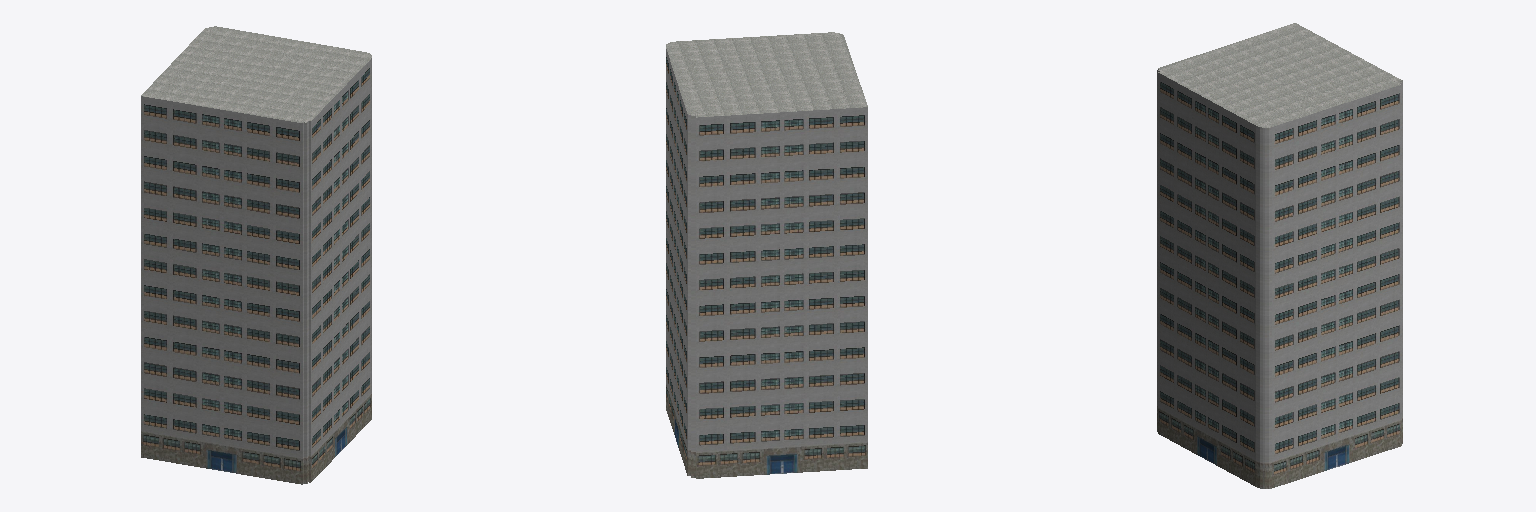
3 renders of one model, left to right at view 1: azimuth 30°, elevation 25°; view 2: azimuth 150°, elevation 25°; view 3: azimuth 270°, elevation 25°, orthographic.
Parts seen in each view (by area): view 1: BuildingMaster_[number redacted]_0, BuildingMaster_[number redacted]_1; view 2: BuildingMaster_[number redacted]_0, BuildingMaster_[number redacted]_1; view 3: BuildingMaster_[number redacted]_0, BuildingMaster_[number redacted]_1.
Boxes of the visible parts, x1,y1,x2,y2 form: BuildingMaster_[number redacted]_0: [141, 58, 371, 484]; BuildingMaster_[number redacted]_1: [141, 26, 371, 122]; BuildingMaster_[number redacted]_0: [666, 49, 867, 478]; BuildingMaster_[number redacted]_1: [666, 32, 867, 117]; BuildingMaster_[number redacted]_0: [1157, 69, 1402, 488]; BuildingMaster_[number redacted]_1: [1158, 23, 1401, 127].
Bounding box in the file's own units: 30.59 × 49 × 30.15.
2 materials, 2 textured.